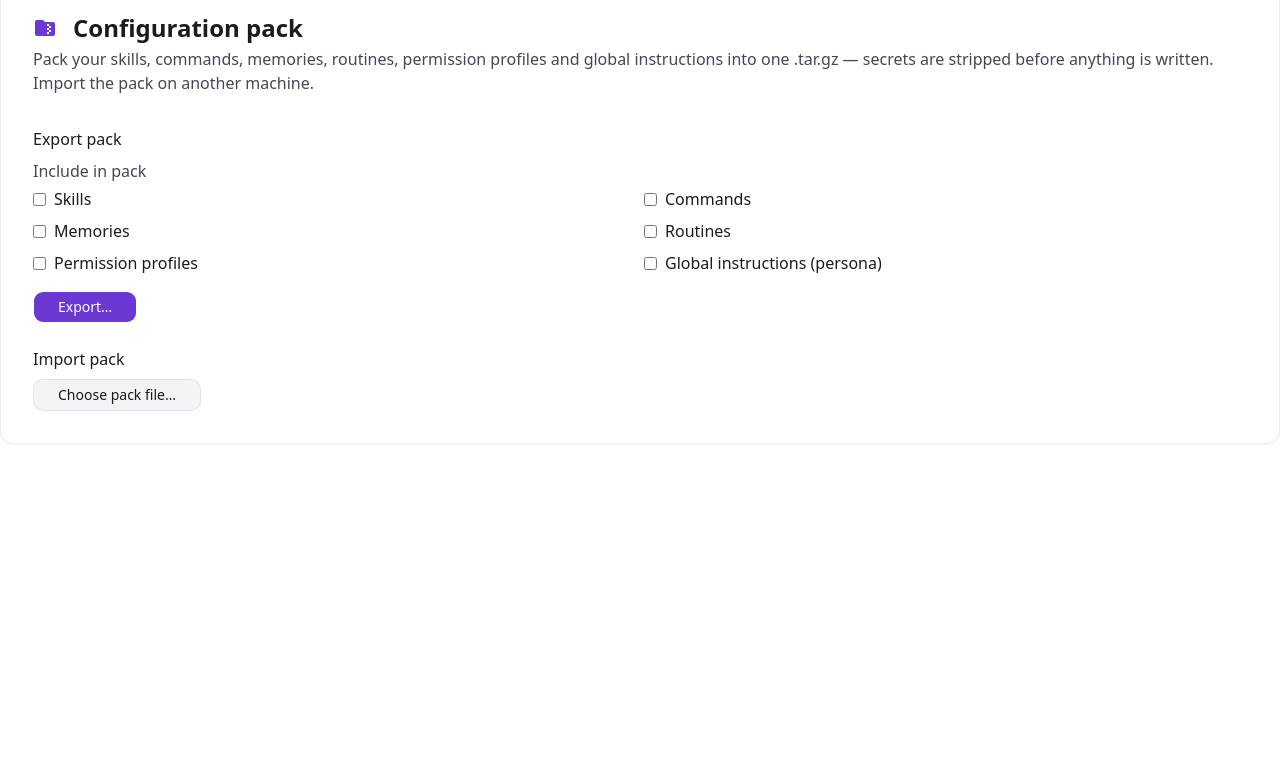
PersonaPackSettings › import flow: pick → inspect preview table → conflict radio → import result
The image size is (1280, 779).
Click the button with test id "persona-pack-pick" at (117, 395), box top-left (33, 379), bottom-right (201, 411)
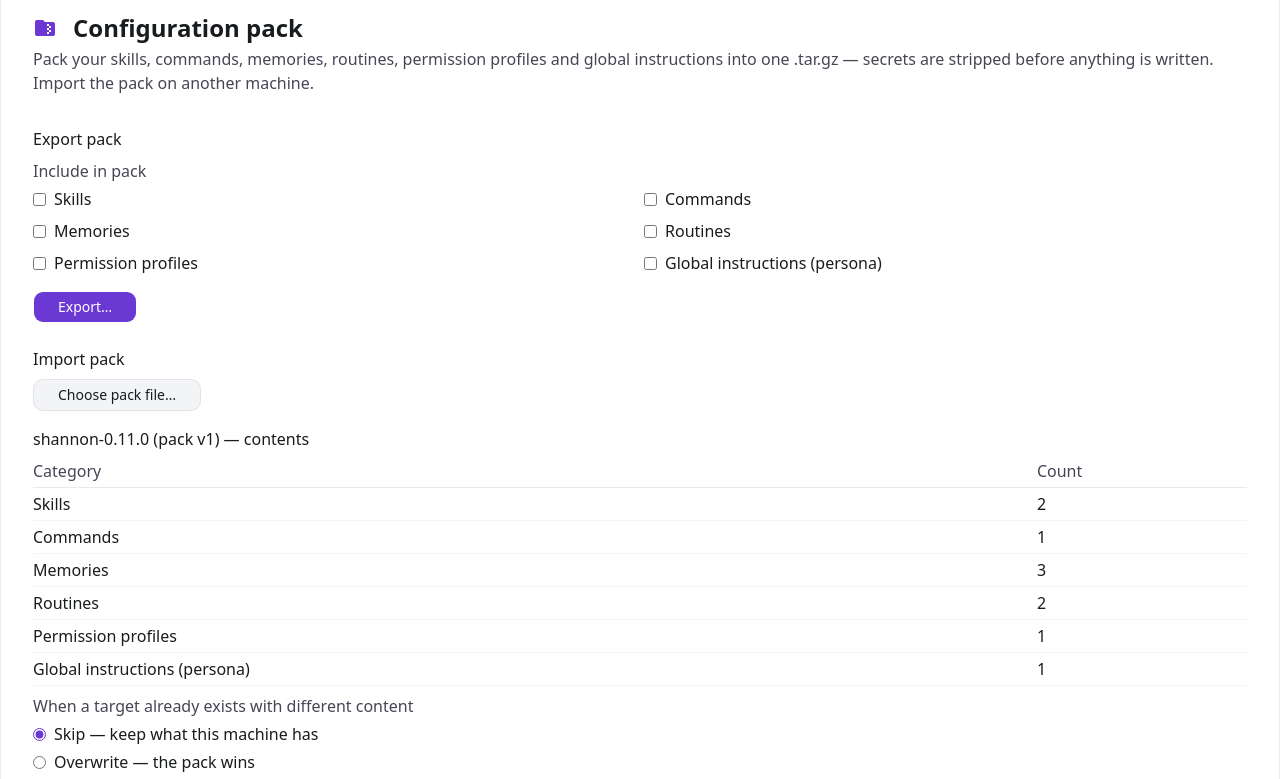
Result: the cell with test id "persona-pack-preview-memory" reads "3" at top-left (1037, 559), bottom-right (1046, 581)
Result: the text "shannon-0.11.0 (pack v1) — contents" is shown at top-left (33, 428), bottom-right (309, 450)
Result: the text "When a target already exists with different content" is shown at top-left (33, 694), bottom-right (414, 718)
// Choose overwrite, then import.
Click the radio button with test id "persona-pack-conflict-overwrite" at (40, 762), box top-left (33, 756), bottom-right (46, 769)
(page scrolled)
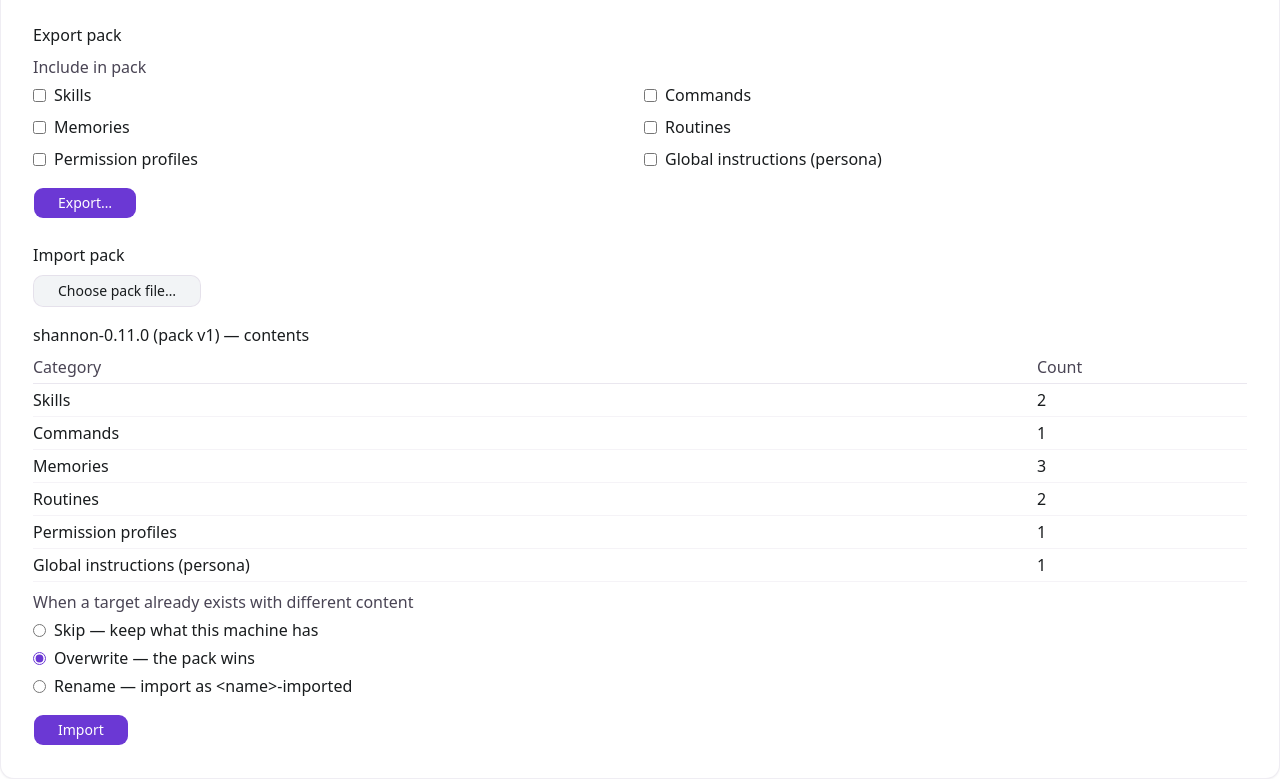
Click the button with test id "persona-pack-import" at (81, 730), box top-left (33, 714), bottom-right (129, 746)
(page scrolled)
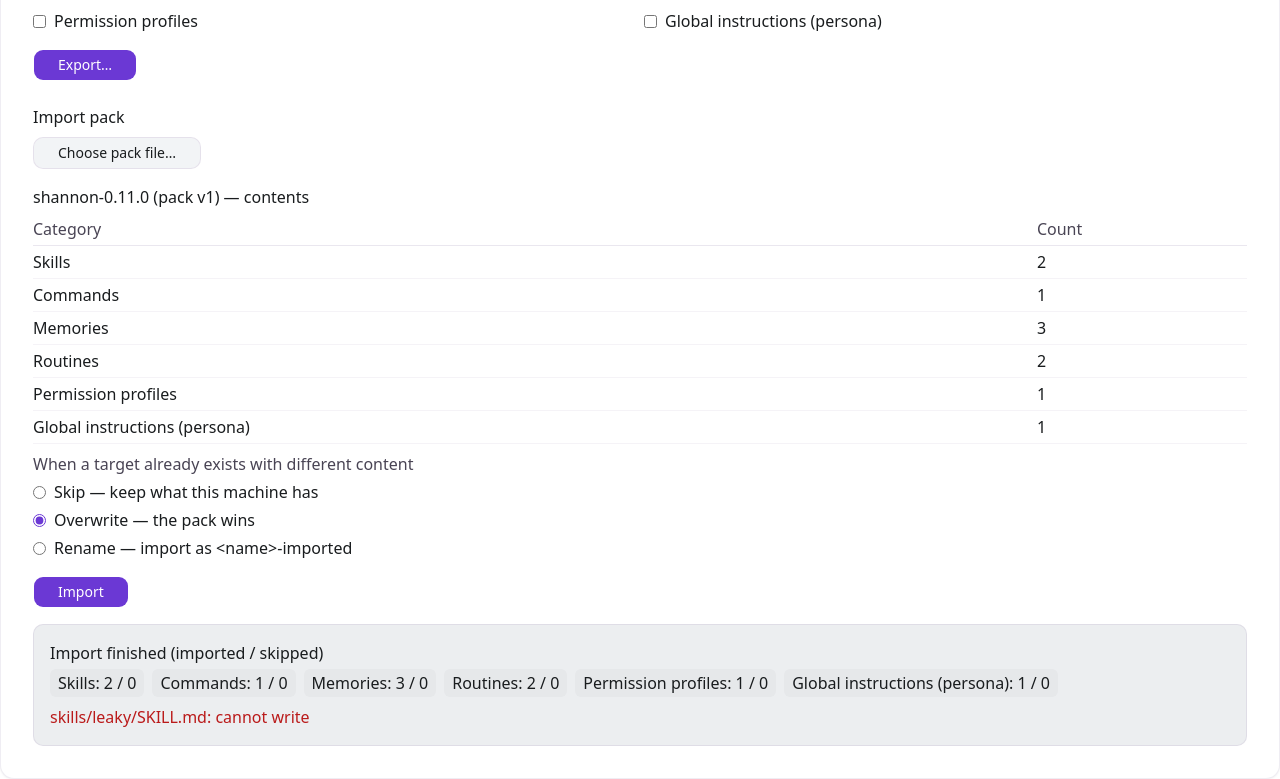
Result: the message with test id "persona-pack-import-result" is shown at top-left (33, 624), bottom-right (1247, 746)
Result: the list item with test id "persona-pack-imported-skills" reads "Skills: 2 / 0" at top-left (50, 669), bottom-right (144, 697)
Result: the list with test id "persona-pack-failures" shows "cannot write" at top-left (215, 706), bottom-right (310, 728)
